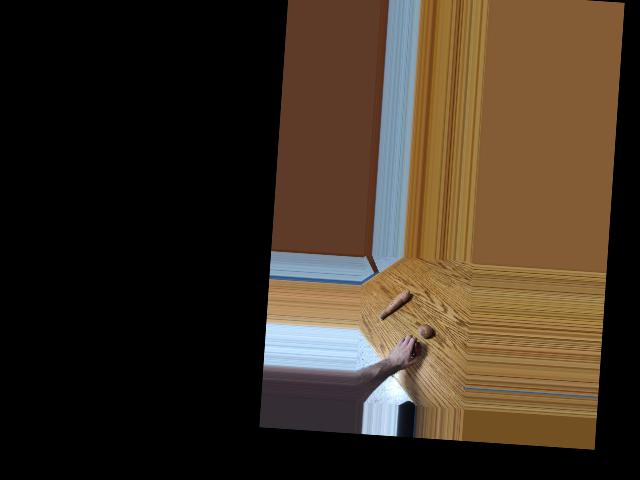onion: (405, 340, 421, 356)
